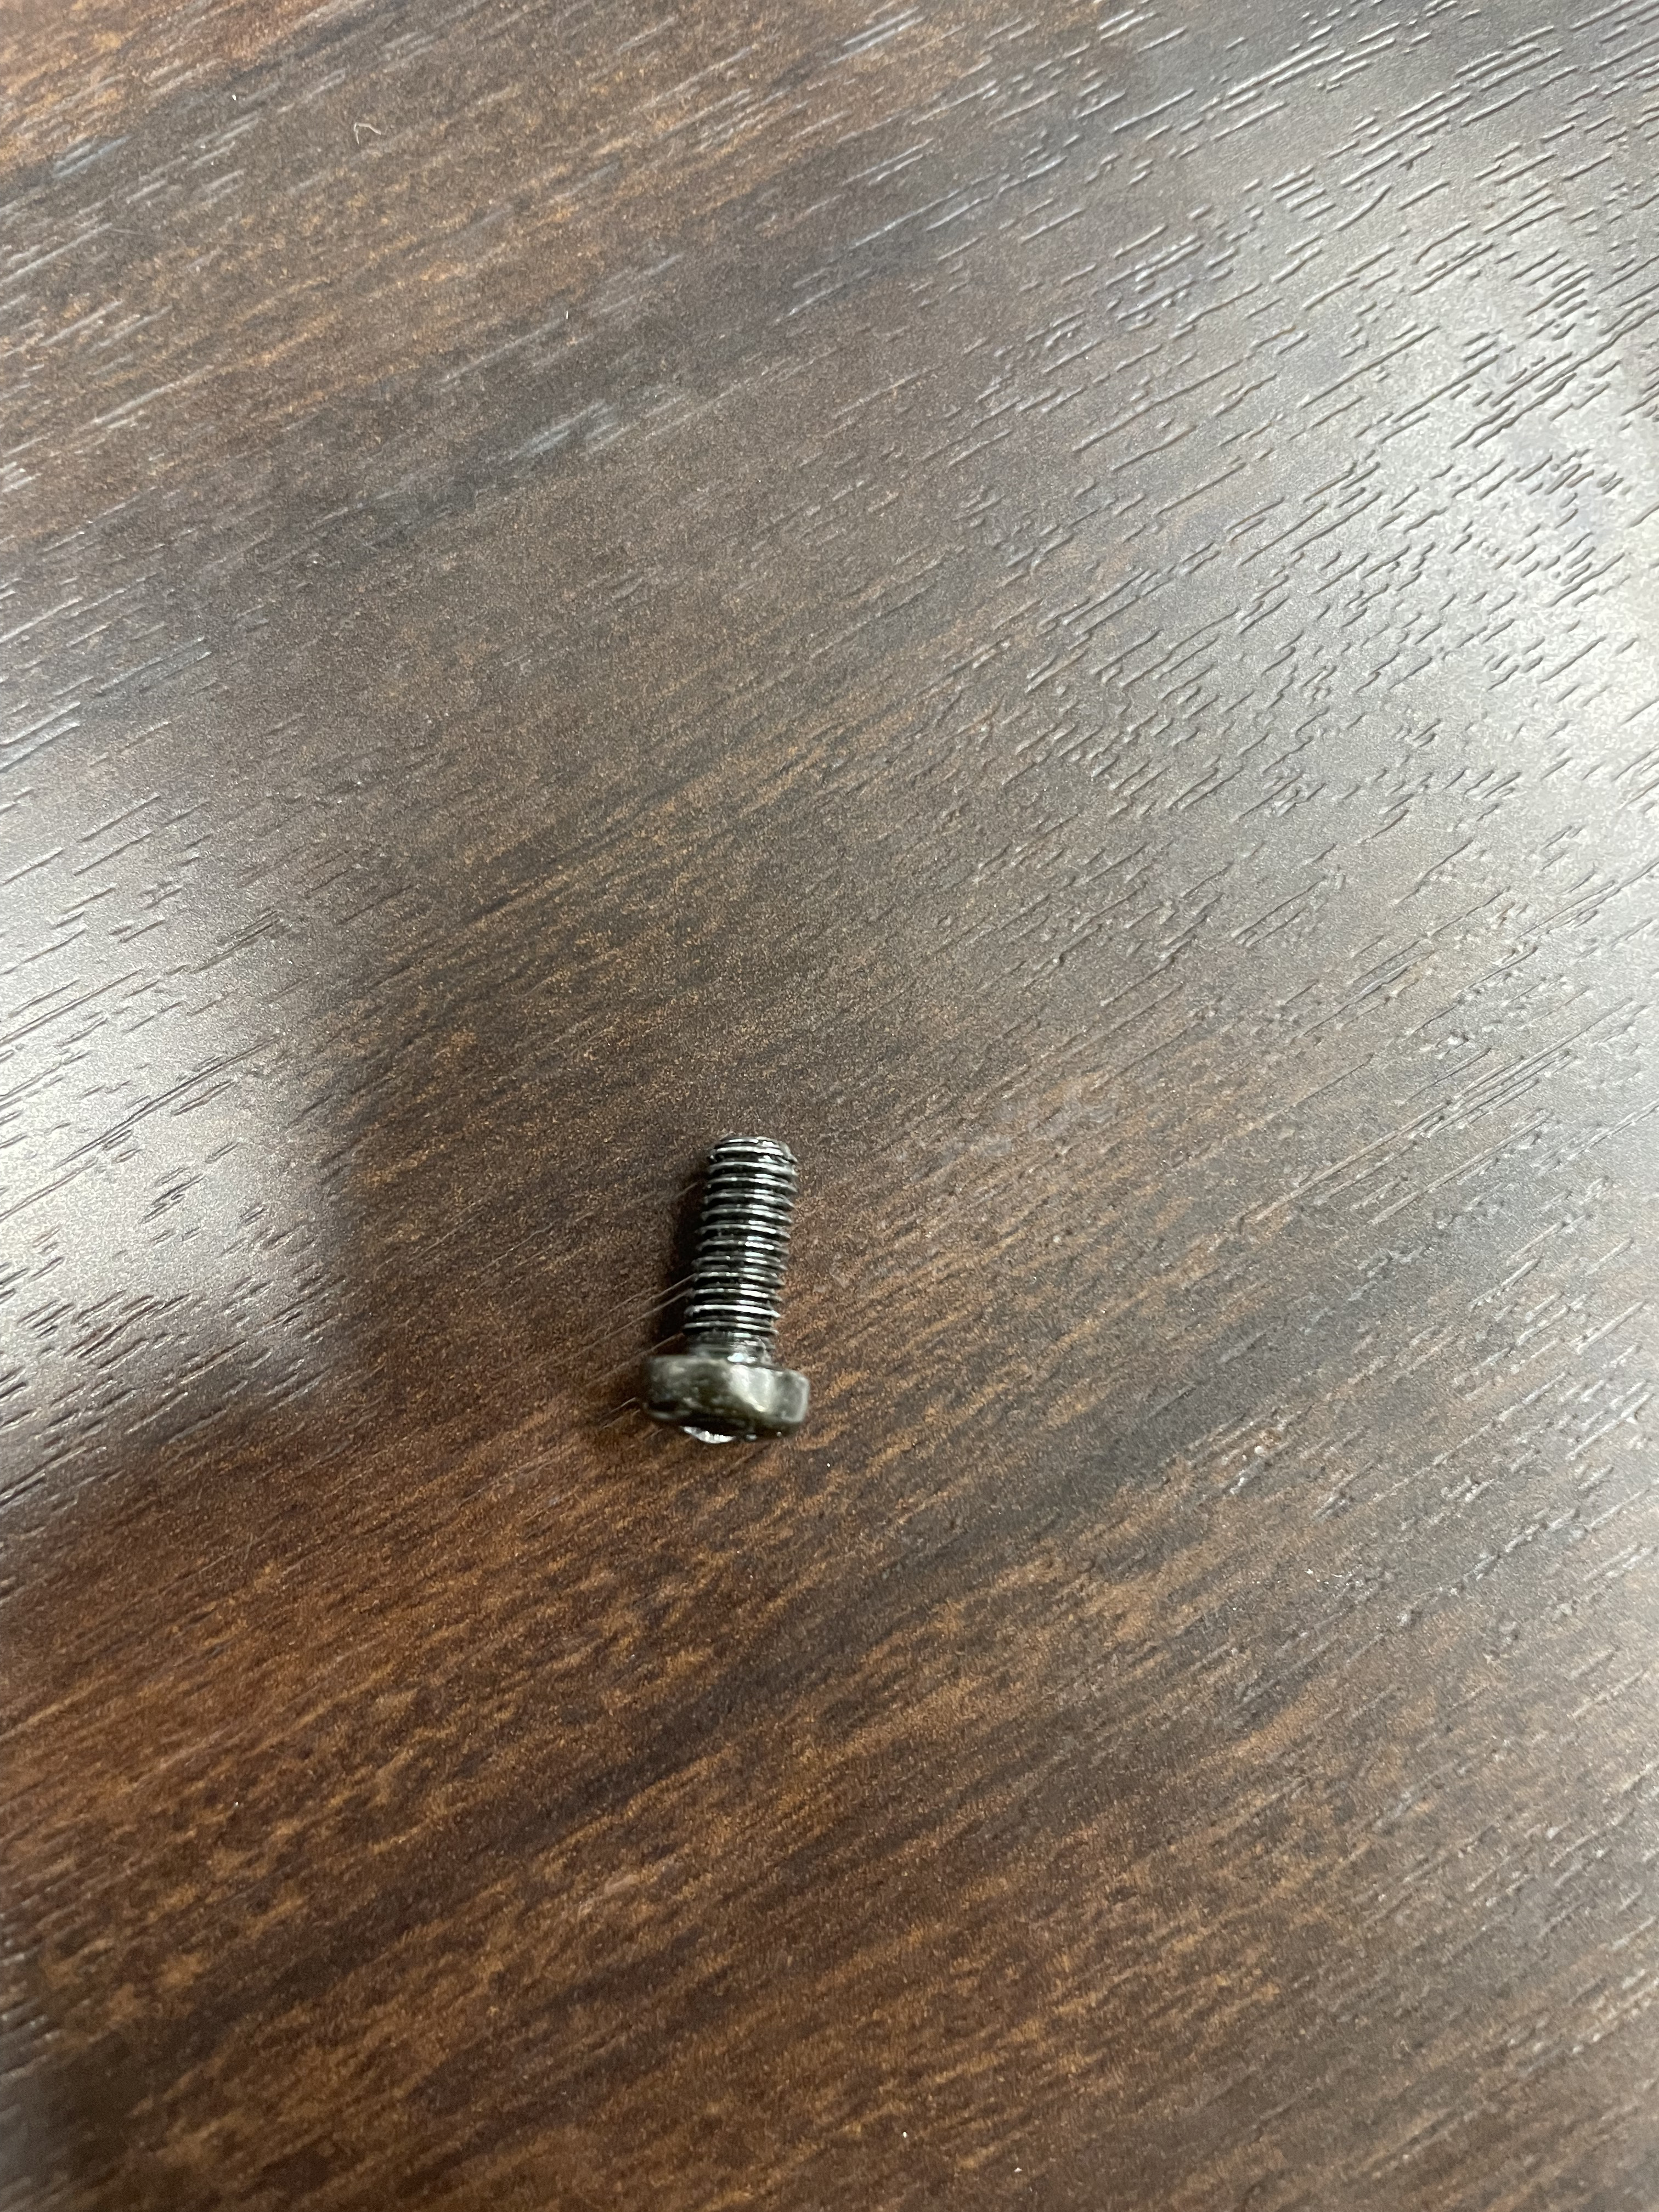screw2: (640, 1133, 815, 1455)
